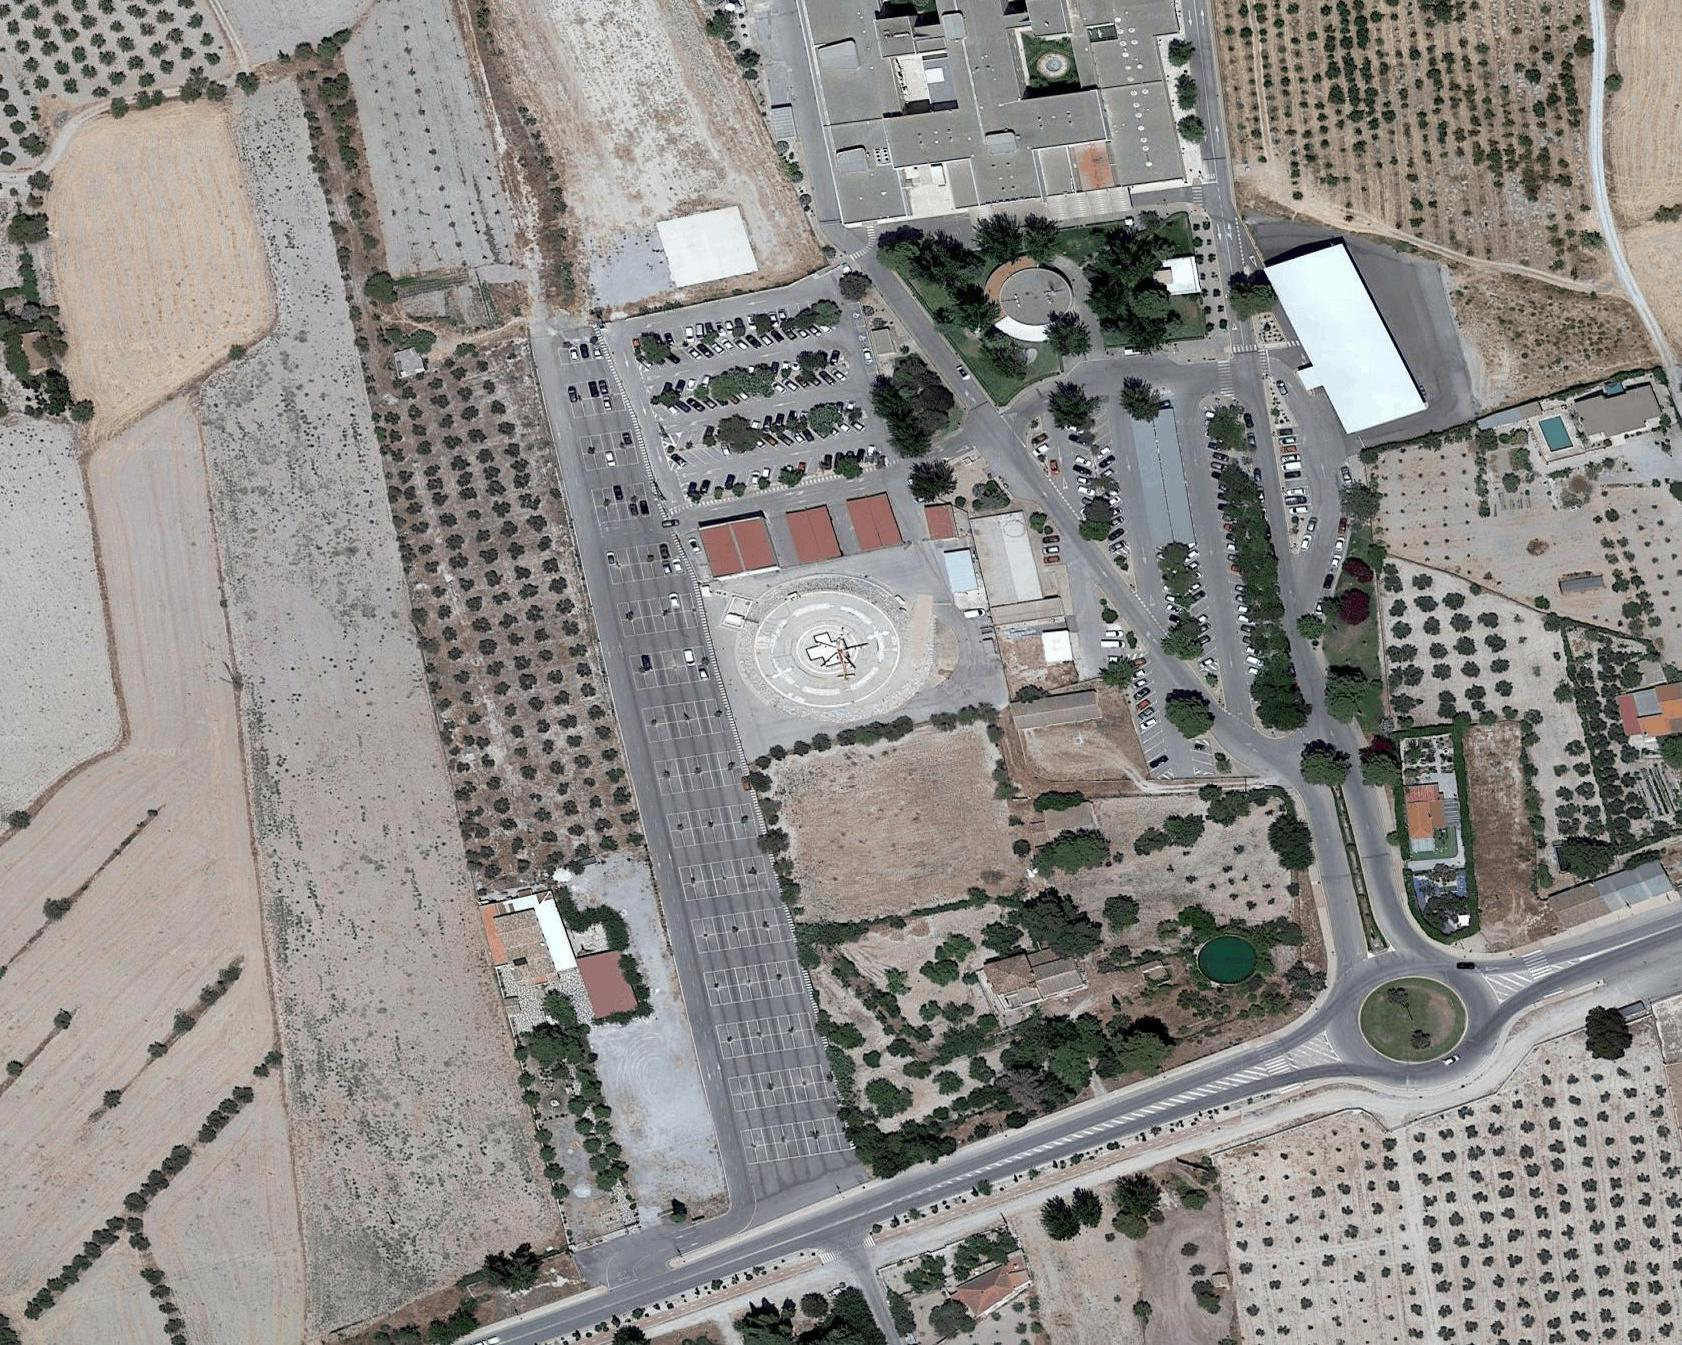helicopter: (815, 629, 867, 686)
helipad: (735, 583, 932, 708)
roundabout: (1349, 957, 1473, 1075)
